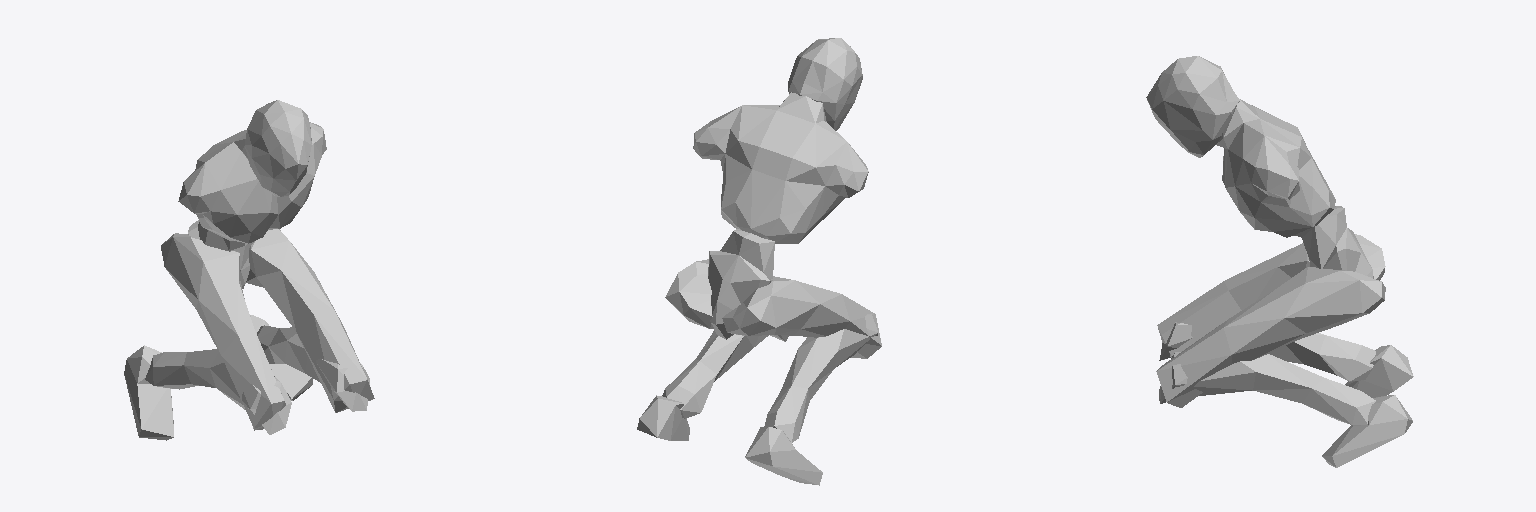
Rendered from filth55.obj.
3 renders of one model, left to right at view 1: azimuth 30°, elevation 25°; view 2: azimuth 150°, elevation 25°; view 3: azimuth 270°, elevation 25°, orthographic.
Visible parts, largest first — view 1: Melee_Husk; view 2: Melee_Husk; view 3: Melee_Husk.
Boxes of the visible parts, box(x1,y1,x2,y2) form: Melee_Husk: box(124, 100, 374, 440); Melee_Husk: box(637, 38, 881, 485); Melee_Husk: box(1146, 56, 1413, 467).
Size of the model in its own units: 22.16 by 47.63 by 30.23.